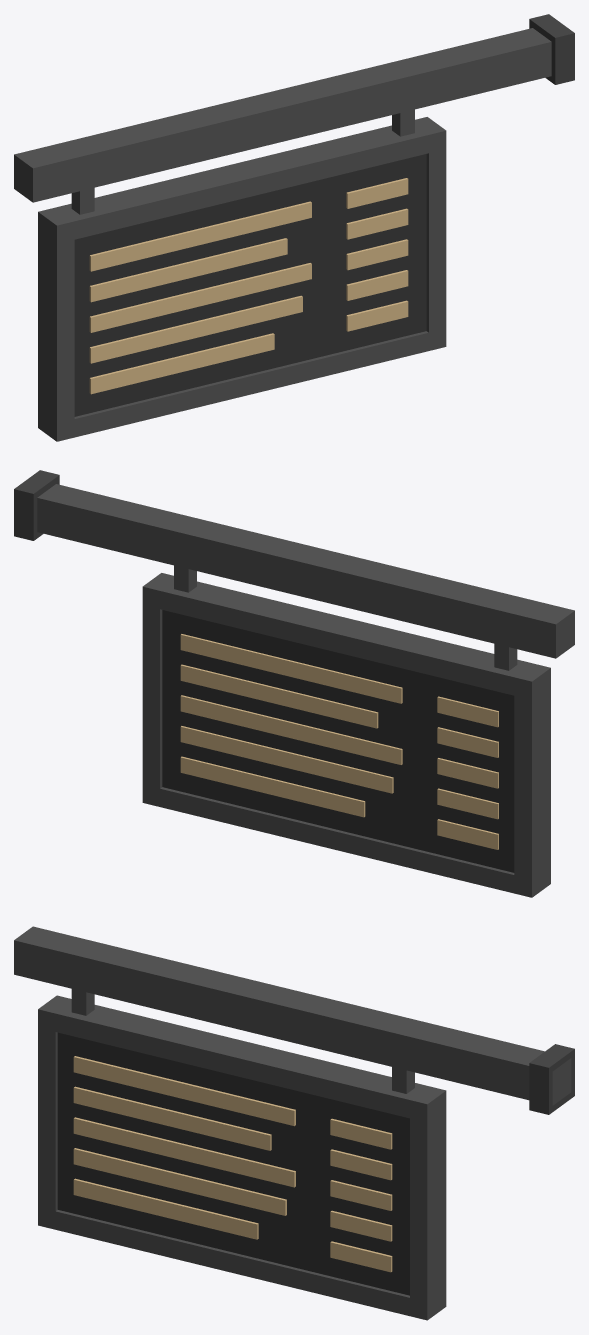
Rendered from Time_01.fbx.
3 renders of one model, top to bottom at view 1: azimuth 30°, elevation 25°; view 2: azimuth 150°, elevation 25°; view 3: azimuth 330°, elevation 25°, orthographic.
Parts seen in each view (by area): view 1: Time_01; view 2: Time_01; view 3: Time_01.
Part boxes in pixels (<box>): Time_01: <box>14,14,574,441</box>; Time_01: <box>14,470,574,897</box>; Time_01: <box>14,926,574,1320</box>.
Bounding box in the file's own units: 132 × 66.86 × 11.04.
